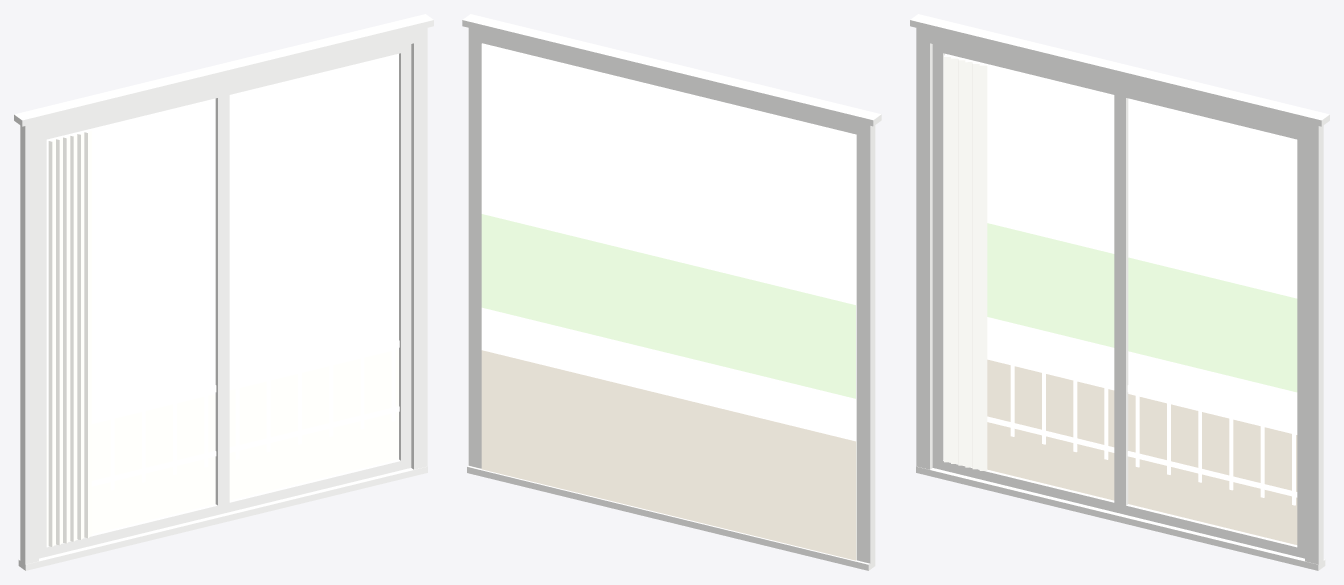
The model's file is slider.glb.
3 views of the same model, side by side, from view 1: azimuth 30°, elevation 25°; view 2: azimuth 150°, elevation 25°; view 3: azimuth 330°, elevation 25° (orthographic).
Visible parts, largest first — view 1: root; view 2: root; view 3: root.
Boxes of the visible parts, <box> form: root: <box>14,14,433,570</box>; root: <box>462,14,881,570</box>; root: <box>910,14,1329,570</box>.
Size of the model in its own units: 2.11 by 2.22 by 0.0732.
